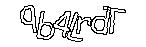4: (52, 11, 70, 37)
L: (66, 12, 82, 41)
T: (103, 6, 125, 33)
b: (36, 11, 54, 39)
d: (90, 7, 110, 34)
q: (20, 5, 36, 32)
r: (76, 16, 91, 33)
